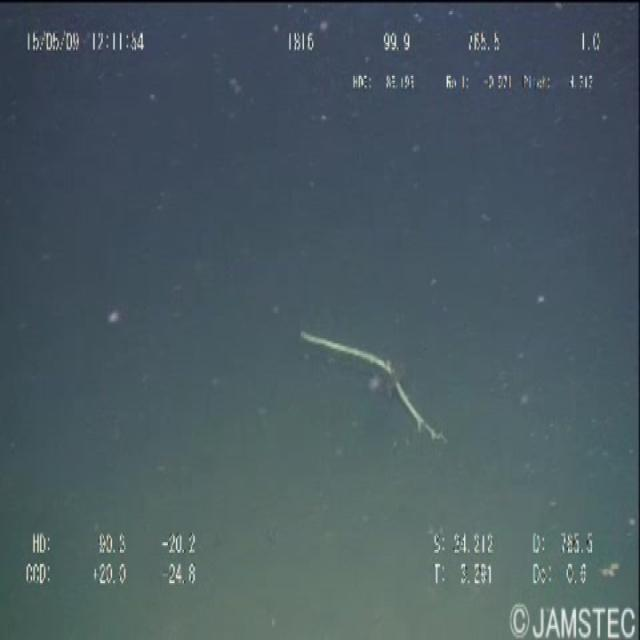Wood: (296, 314, 451, 453)
